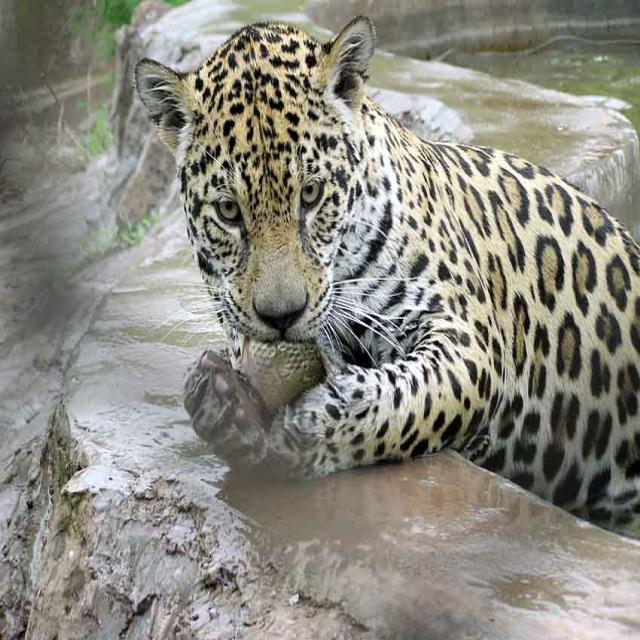Leopard: (131, 8, 638, 541)
